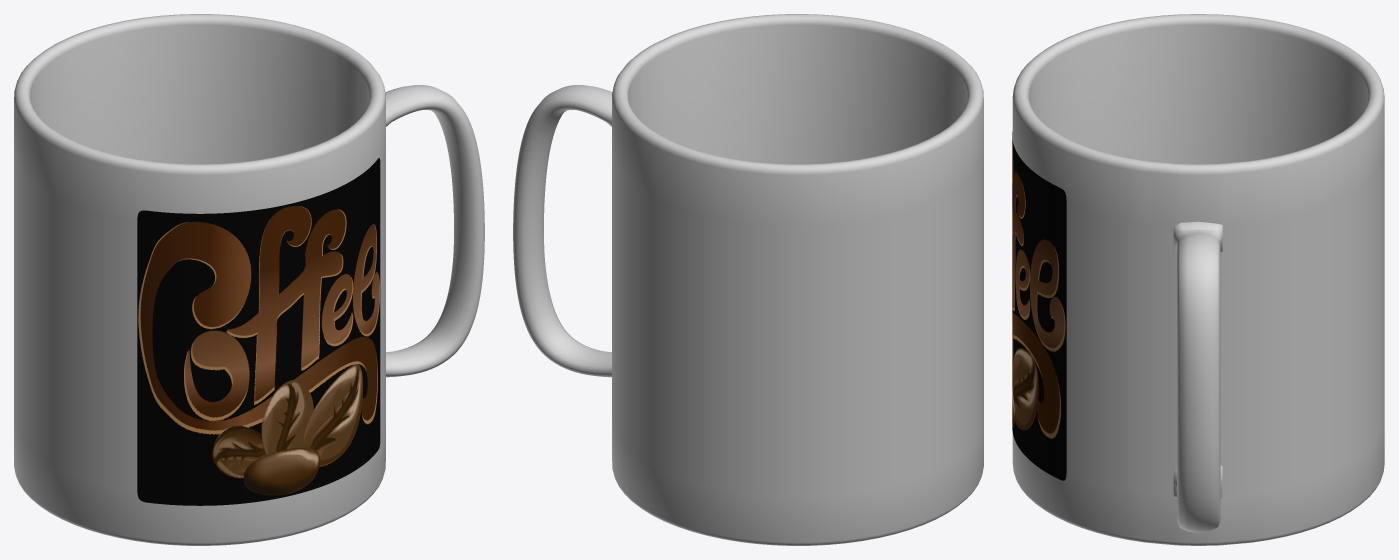
The model's file is Mug.glb.
The picture shows the model from 3 angles, left to right: view 1: azimuth 30°, elevation 25°; view 2: azimuth 150°, elevation 25°; view 3: azimuth 270°, elevation 25°; orthographic projection.
Parts seen in each view (by area): view 1: Coffee Cup; view 2: Coffee Cup; view 3: Coffee Cup.
Boxes of the visible parts, x1=… form: Coffee Cup: x1=14, y1=14, x2=484, y2=545; Coffee Cup: x1=513, y1=14, x2=983, y2=545; Coffee Cup: x1=1012, y1=14, x2=1384, y2=545.
Bounding box in the file's own units: 0.1394 × 0.1143 × 0.1017.
Materials: 2 (1 with a texture image).
